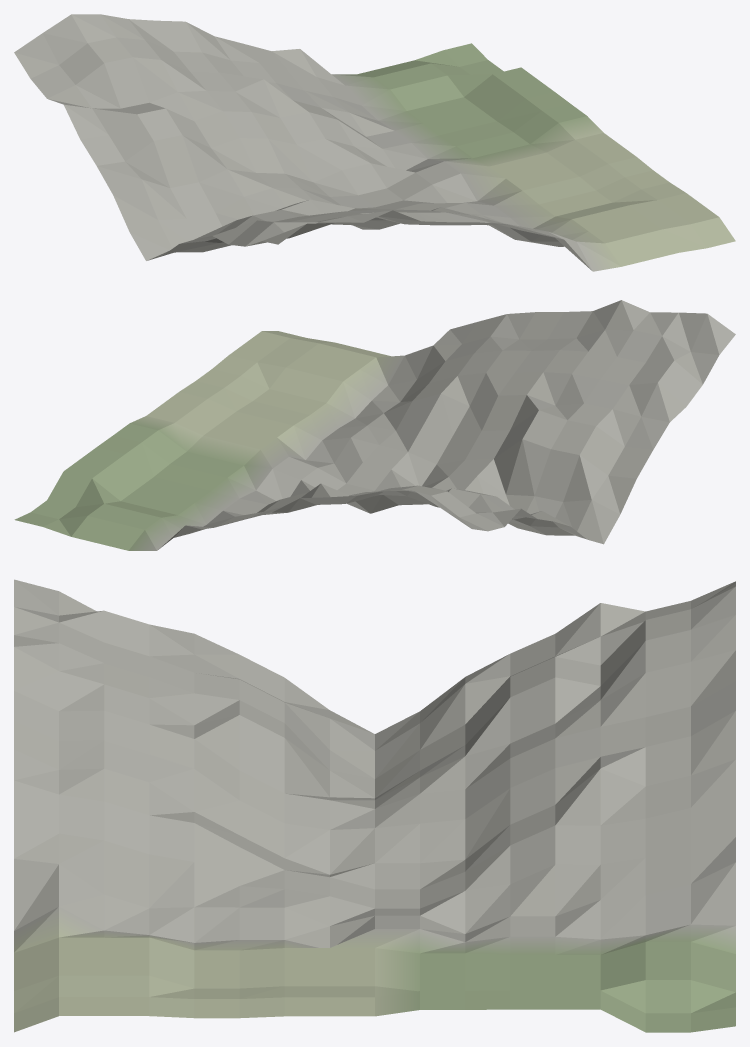
The picture shows the model from 3 angles, top to bottom: view 1: azimuth 30°, elevation 25°; view 2: azimuth 150°, elevation 25°; view 3: azimuth 270°, elevation 25°; orthographic projection. The views are drawn at different scales.
Bounding box in the file's own units: 32 × 9.54 × 32.
